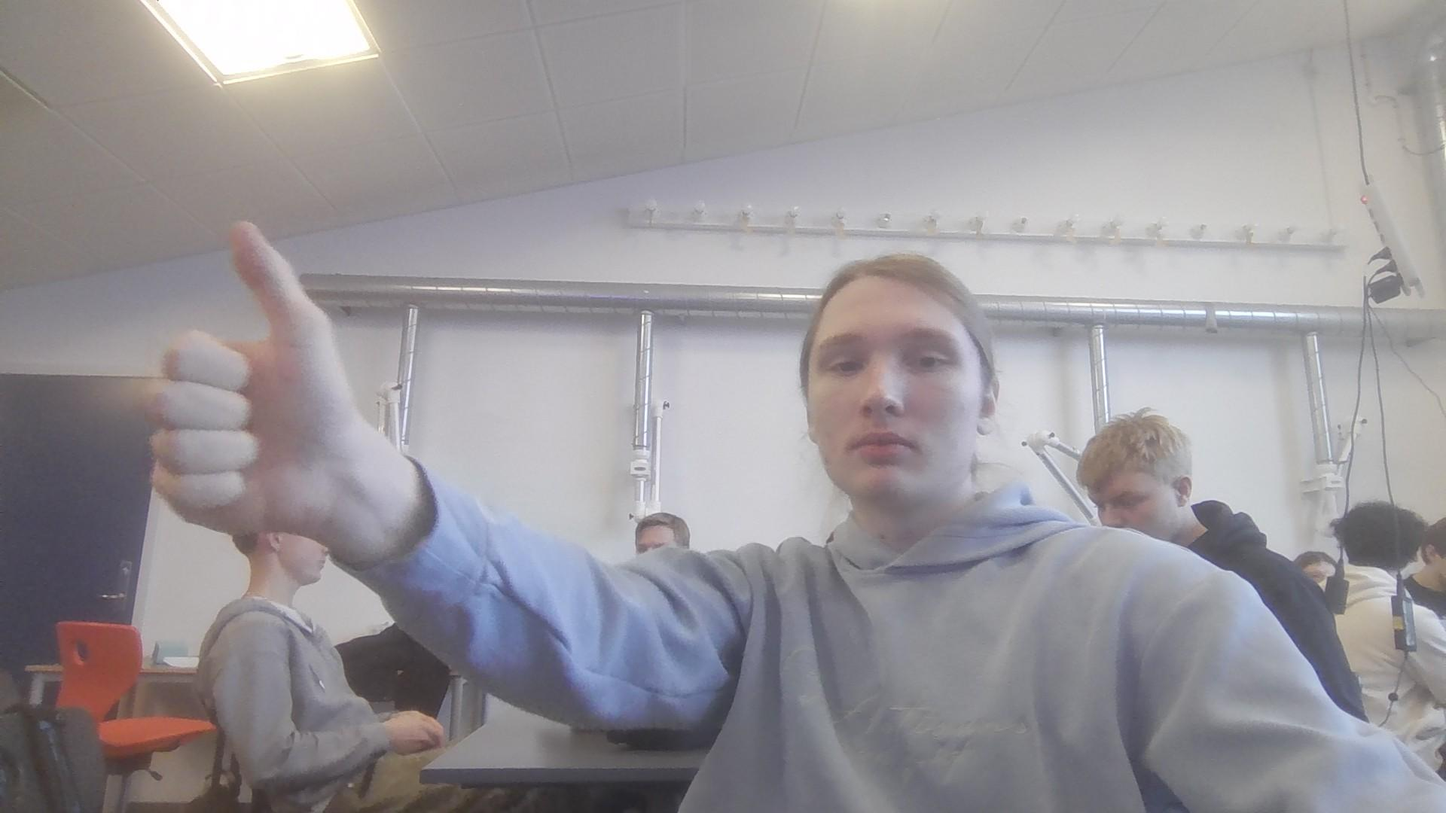thumbs up: (147, 217, 370, 557)
